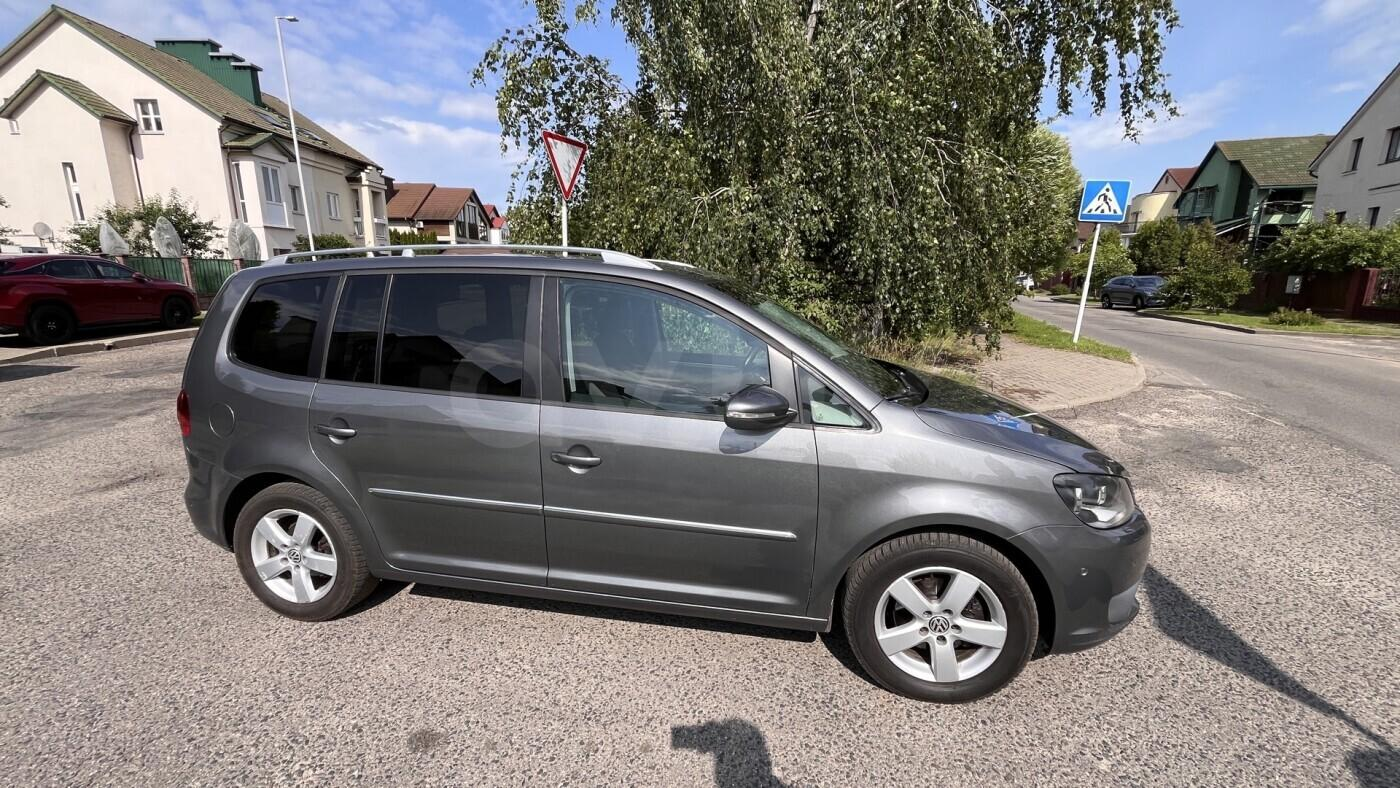Touran_2010-2015: (175, 242, 1155, 694)
